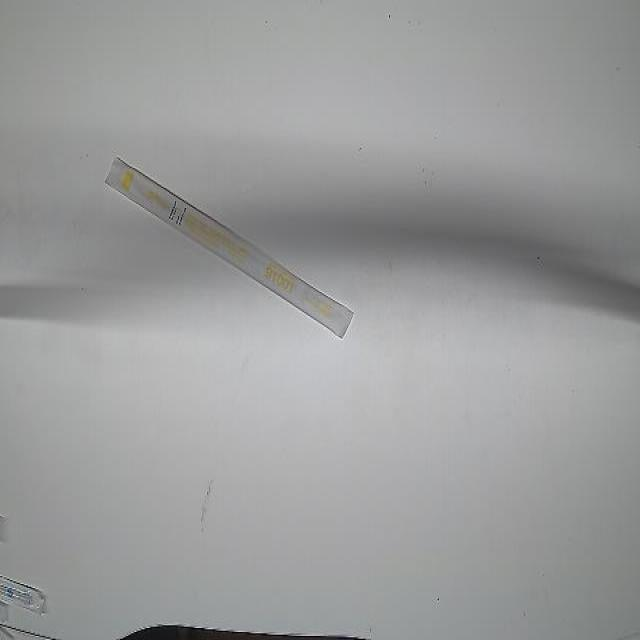Serelogical Pipet 1 mL - Sealed: (98, 146, 356, 343)
